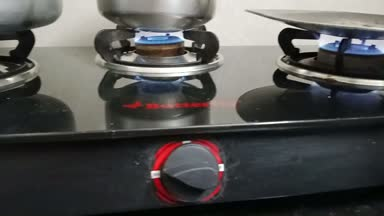flame_gas_on: (93, 21, 250, 205), (275, 21, 384, 90)
